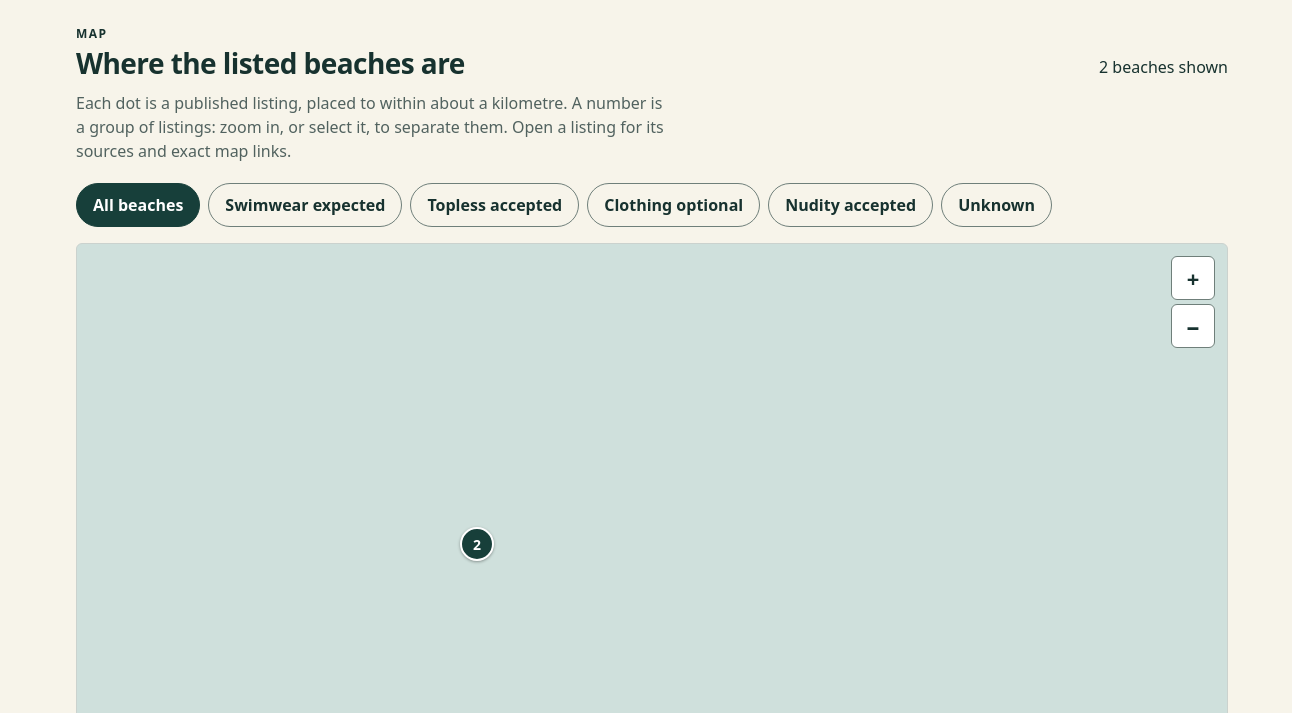
Scenario: MapPage › groups neighbouring beaches and separates them when the group is selected
Click the button named "2 beaches here — zoom in".
click(477, 544)  # box [460, 527, 494, 561]
(page scrolled)
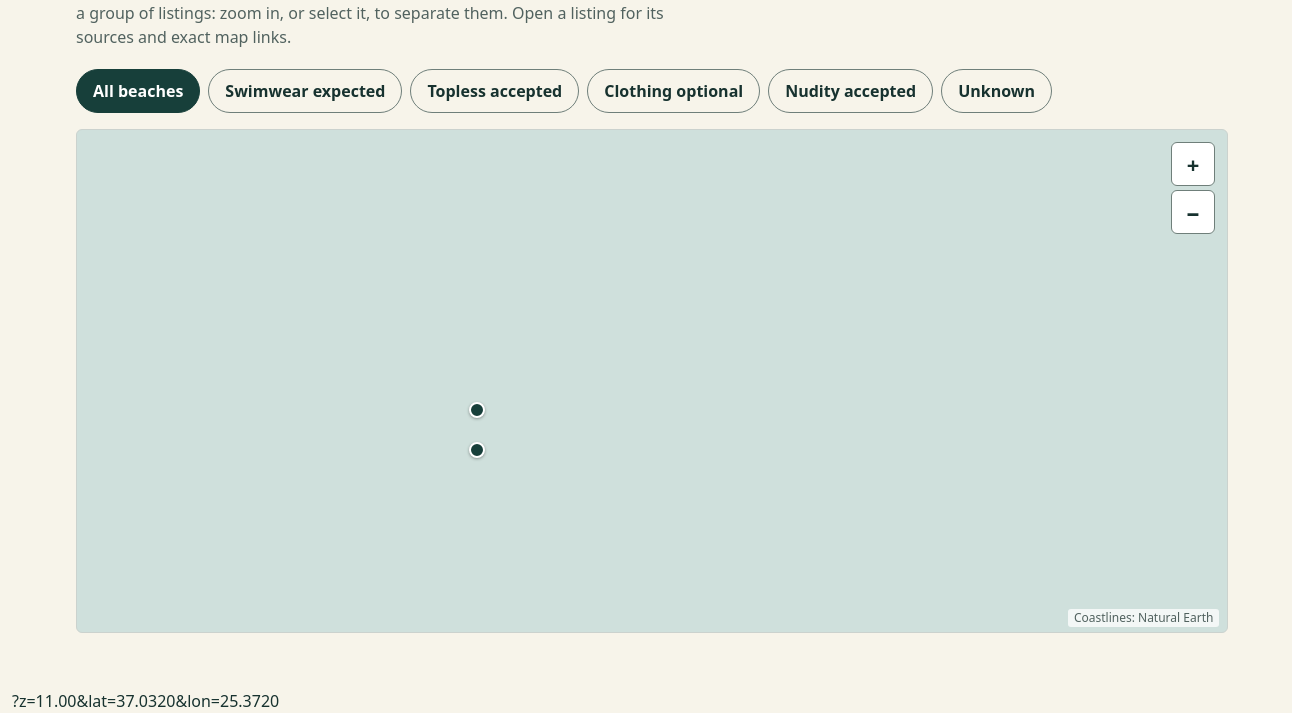
Check: the button named "Cove A" is shown, box [463, 396, 491, 424]
Check: the button named "Cove B" is shown, box [463, 436, 491, 464]
Check: the text with test id "location" reads "?z=11.00&lat=37.0320&lon=25.3720", box [12, 690, 279, 712]
